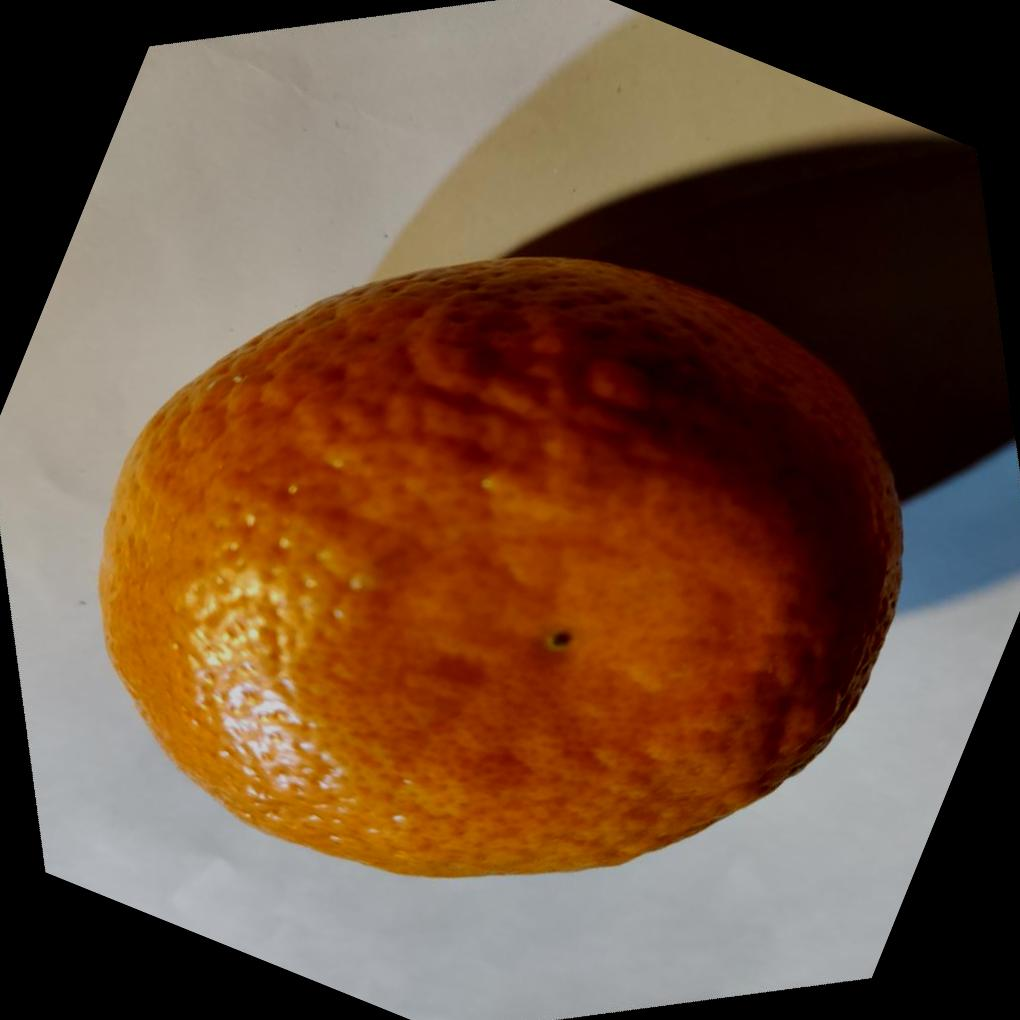FreshGuava: (91, 250, 902, 878)
